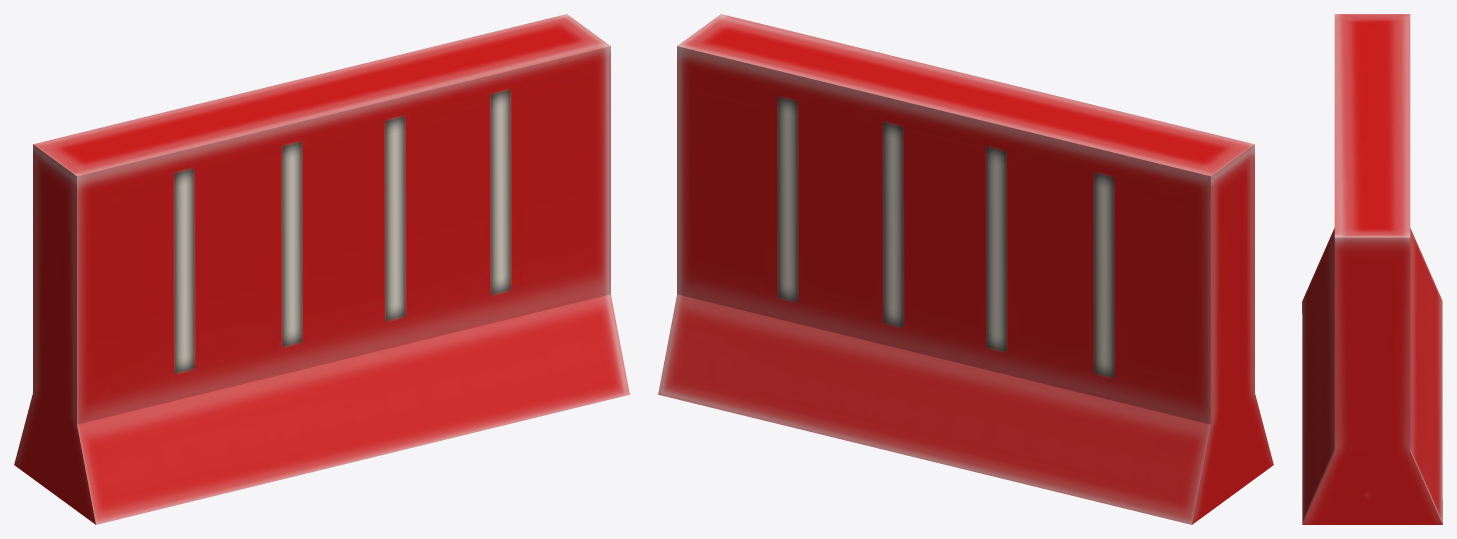
File: jump_barrier_01.FBX
The picture shows the model from 3 angles, left to right: view 1: azimuth 30°, elevation 25°; view 2: azimuth 150°, elevation 25°; view 3: azimuth 270°, elevation 25°; orthographic projection. The views are drawn at different scales.
Visible parts, largest first — view 1: JUMP_BARRIER003; view 2: JUMP_BARRIER003; view 3: JUMP_BARRIER003.
Part boxes in pixels (x1=…): JUMP_BARRIER003: x1=14, y1=14, x2=629, y2=524; JUMP_BARRIER003: x1=658, y1=14, x2=1273, y2=524; JUMP_BARRIER003: x1=1302, y1=14, x2=1442, y2=524.
Bounding box in the file's own units: 162 × 96.92 × 43.
